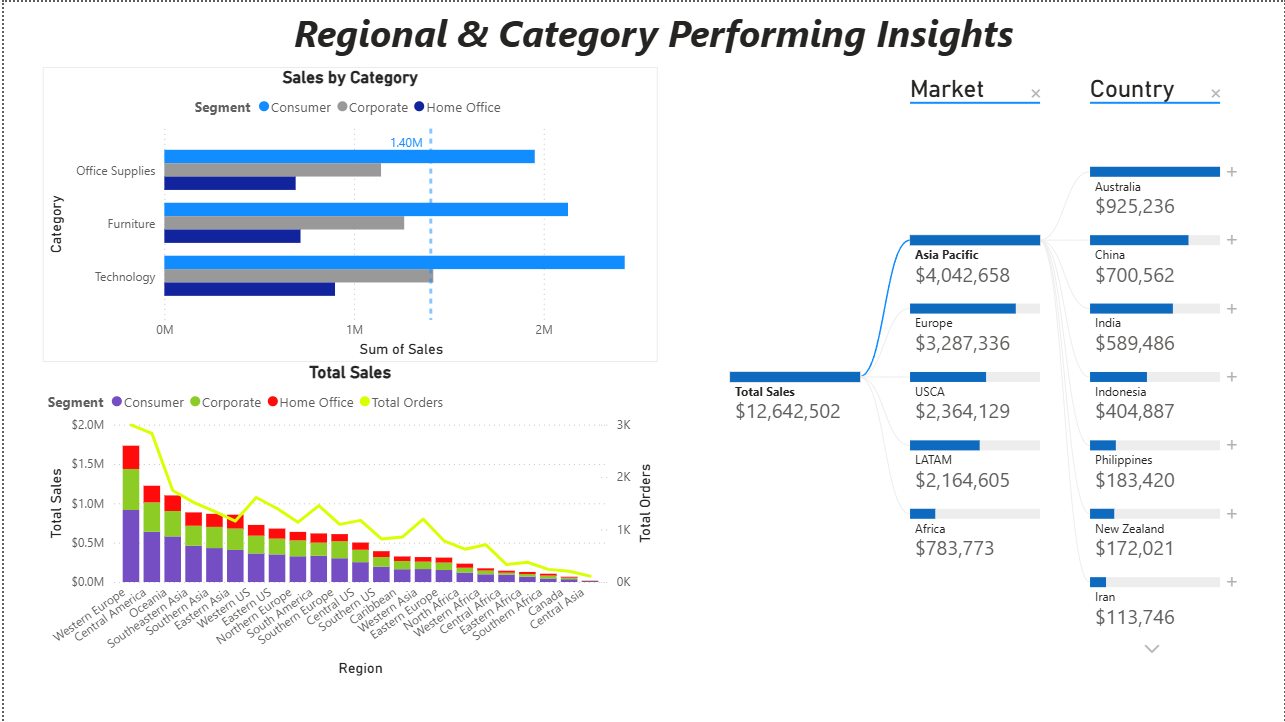

The page's visual inventory and layout, read from the dashboard file:
{"tool":"powerbi","page":{"name":"Regional & Category Insights","canvas":[1280,720],"ordinal":1},"visuals":[{"type":"clusteredBarChart","title":"Sales by Category","fields":{"Category":["Orders.Category"],"Y":["Sum(Orders.Sales)"],"Series":["Orders.Segment"]},"box":[38.8,65,615,295],"z":0},{"type":"textbox","box":[285,0,737.5,65],"z":1000},{"type":"lineStackedColumnComboChart","title":"Total Sales","fields":{"Category":["Orders.Region"],"Y":["Orders.Total Sales"],"Y2":["Orders.Total Orders"],"Series":["Orders.Segment"]},"box":[38.8,360,615,318.8],"z":2000},{"type":"decompositionTreeVisual","fields":{"Analyze":["Orders.Total Sales"],"ExplainBy":["Orders.Market","Orders.Country","Orders.Segment","Orders.City","Orders.Category","Orders.Sub-Category"]},"box":[696.2,65,556.2,623.8],"z":3000}]}

Visuals, with their boxes in screenshot pixels (x1, y1, x2, y2), scaled from the page's 1280x720 canvas onto the 1285x722 screenshot:
"Sales by Category" clusteredBarChart: select_region(39, 65, 656, 361)
textbox: select_region(286, 0, 1026, 65)
"Total Sales" lineStackedColumnComboChart: select_region(39, 361, 656, 681)
decompositionTreeVisual - Orders.Total Sales x Orders.Market: select_region(699, 65, 1257, 691)
